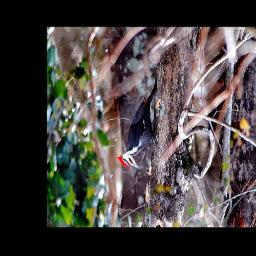Woodpecker: (114, 76, 158, 170)
